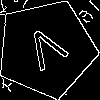V: (21, 23, 75, 80)
